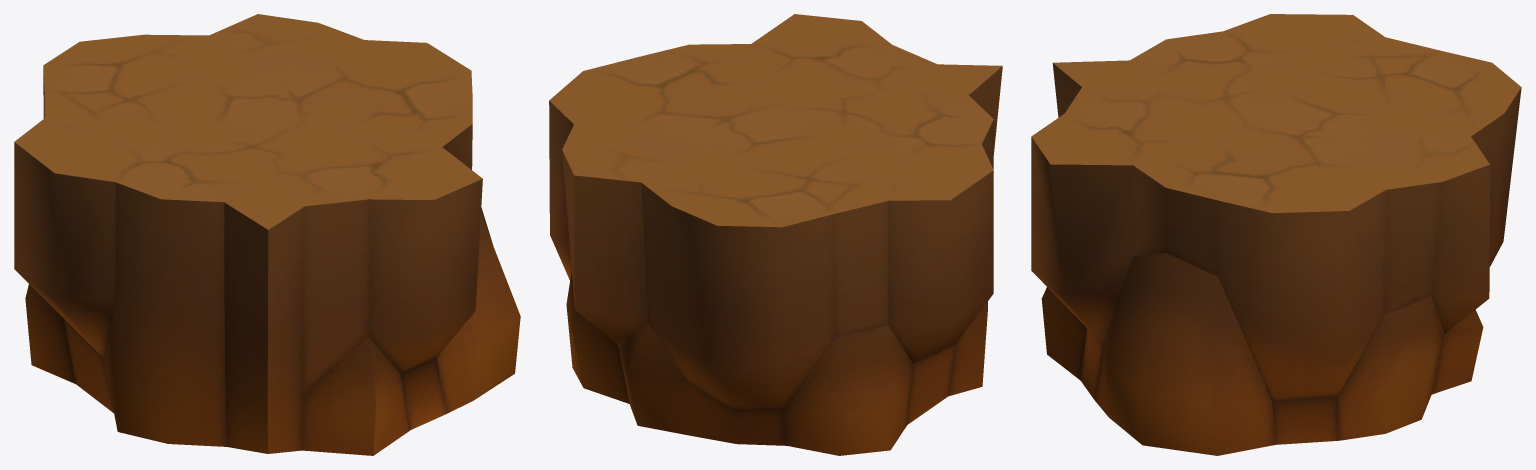
Rendered from Hell_Platform.fbx.
3 views of the same model, side by side, from view 1: azimuth 30°, elevation 25°; view 2: azimuth 150°, elevation 25°; view 3: azimuth 270°, elevation 25° (orthographic). The views are drawn at different scales.
Parts seen in each view (by area): view 1: Hell_Platform; view 2: Hell_Platform; view 3: Hell_Platform.
Part boxes in pixels (left/top/right/bottom): Hell_Platform: left=14, top=14, right=520, bottom=455; Hell_Platform: left=549, top=14, right=1002, bottom=455; Hell_Platform: left=1031, top=14, right=1521, bottom=455.
Bounding box in the file's own units: 2.17 × 1.22 × 2.23.
1 material, 1 textured.
